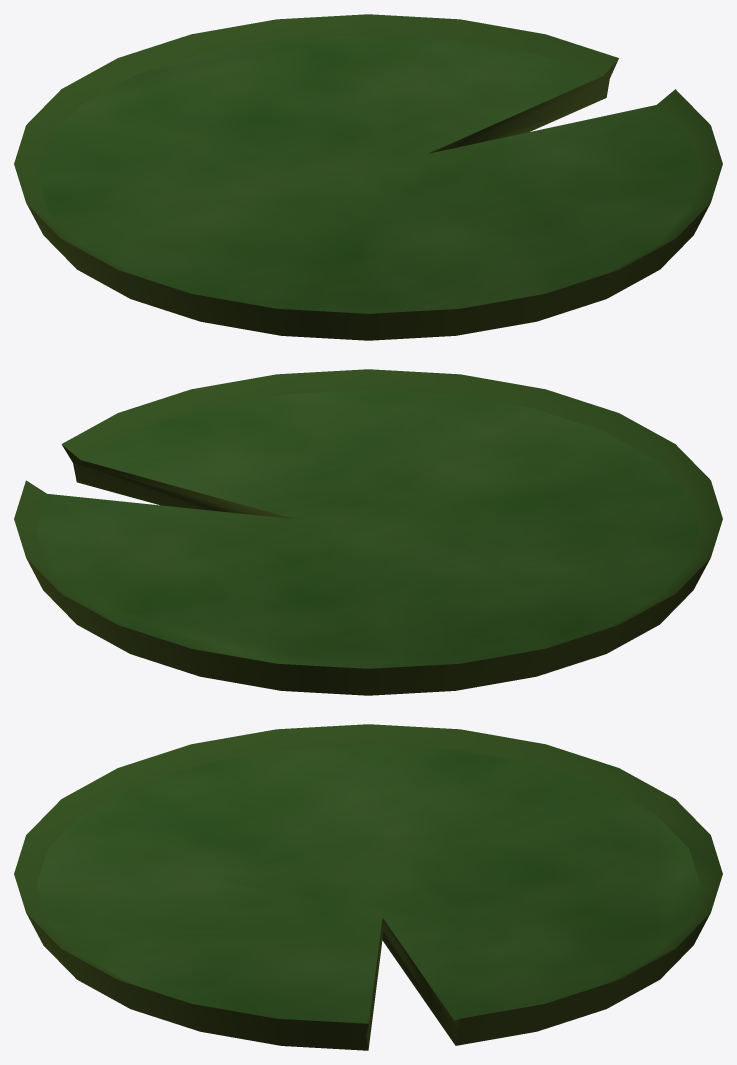
The model's file is lilypad.obj.
3 views of the same model, one above another, from view 1: azimuth 30°, elevation 25°; view 2: azimuth 150°, elevation 25°; view 3: azimuth 270°, elevation 25° (orthographic).
Visible parts, largest first — view 1: lilypad; view 2: lilypad; view 3: lilypad.
Boxes of the visible parts, bbox=[...] form: lilypad: bbox=[14, 14, 722, 340]; lilypad: bbox=[14, 369, 722, 695]; lilypad: bbox=[14, 724, 722, 1050].
Size of what is drawn, in the model's own units: 4.94 by 0.2649 by 4.94.
1 material, 1 textured.
